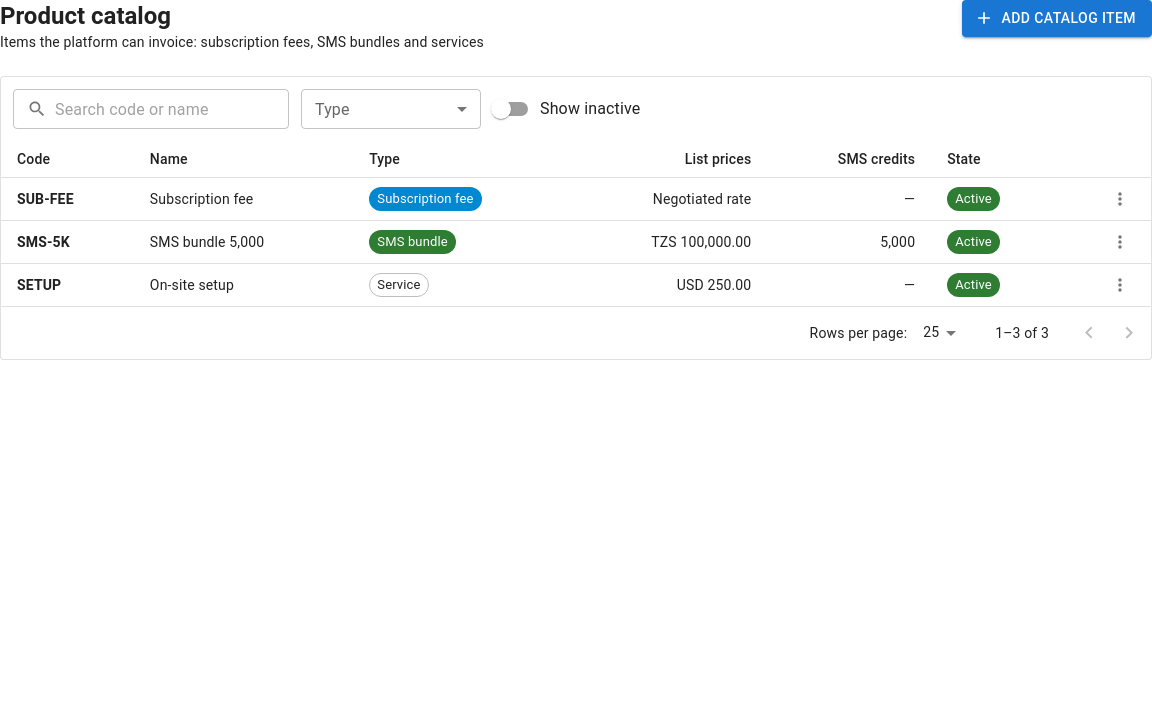
Test case: CatalogPage › edits with the version read, and offers Reload on STALE_VERSION
Check: the text "SMS-5K" is shown, box [17, 234, 70, 250]
Click the button named "Actions for SMS-5K · SMS bundle 5,000" at coordinates (1120, 242), box [1105, 227, 1135, 257]
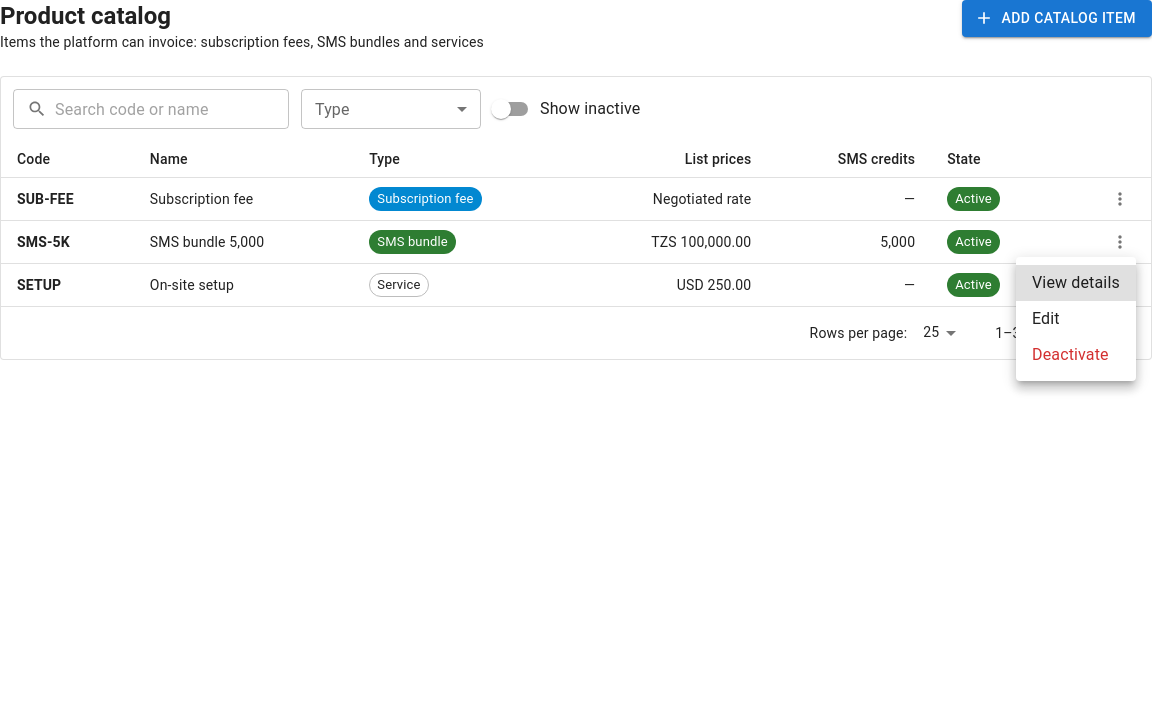
Click the menu item "Edit" at coordinates (1046, 318), box [1032, 309, 1060, 328]
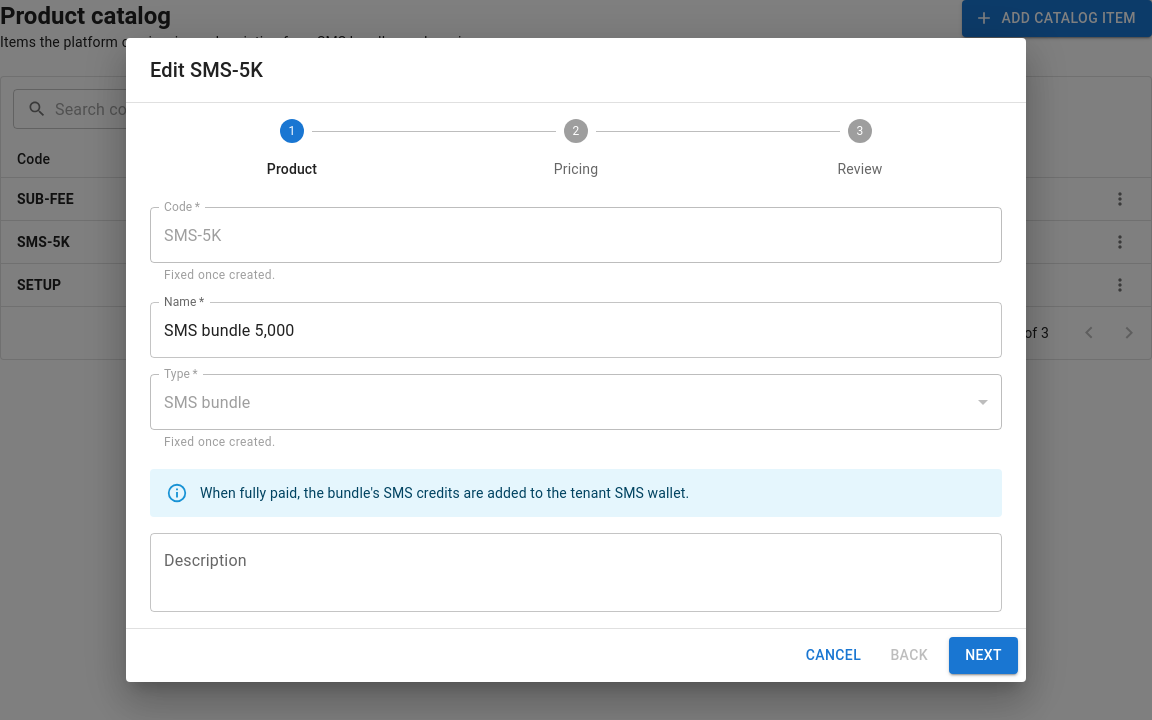
Check: the field labelled "Code *" is disabled, box [150, 207, 1002, 263]
Click the button "Next" at coordinates (984, 655), box [949, 637, 1018, 674]
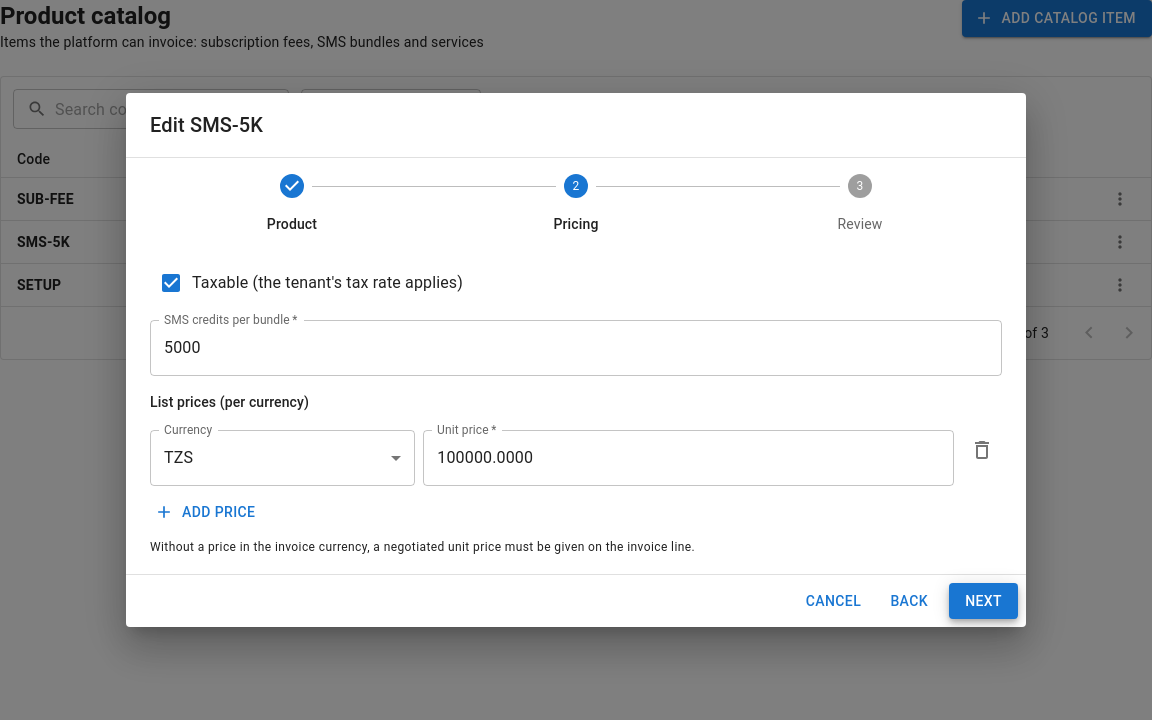
Click the button "Next" at coordinates (984, 601), box [949, 583, 1018, 619]
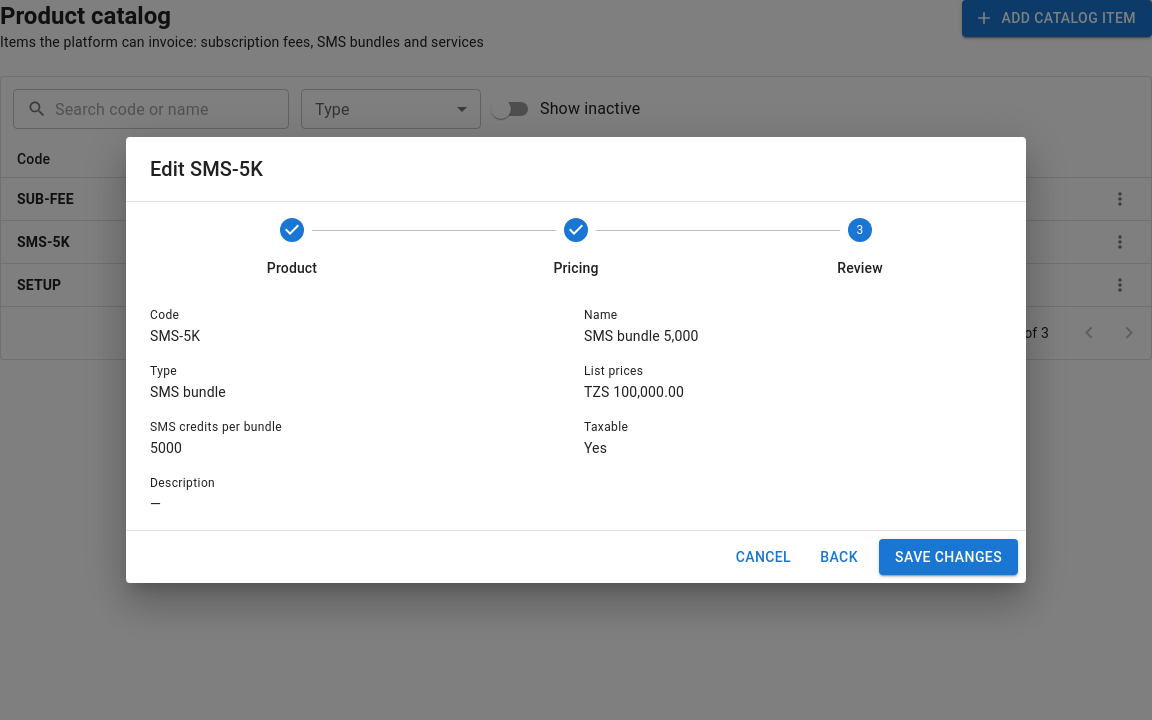
Click the button "Save changes" at coordinates (949, 557), box [879, 539, 1018, 575]
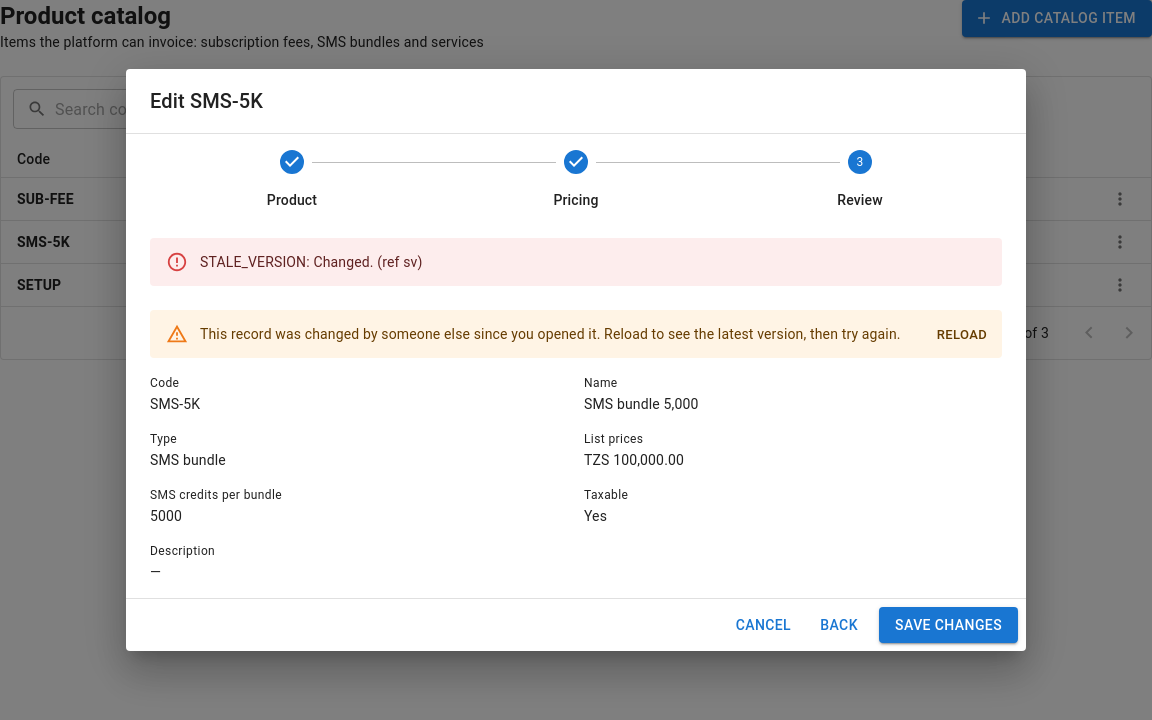
Check: the text "This record was changed by someone else since you opened it. Reload to see the latest version, then try again." is shown, box [200, 326, 901, 342]
